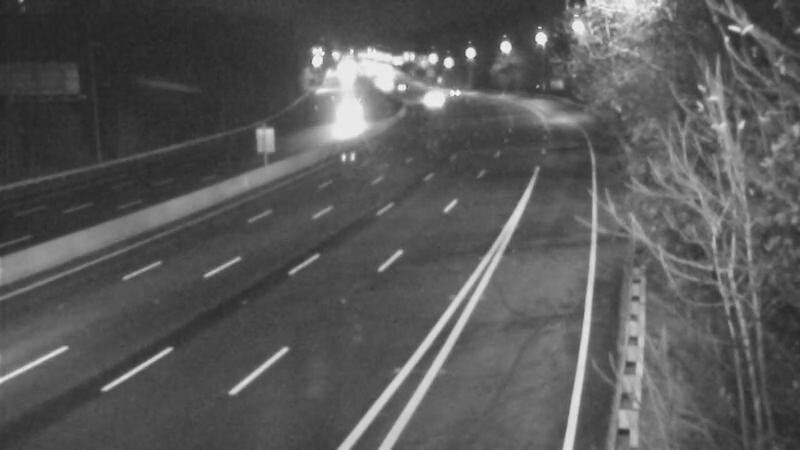vehicle: (377, 62, 427, 112), (423, 64, 473, 114), (405, 74, 455, 124), (316, 94, 366, 144)
